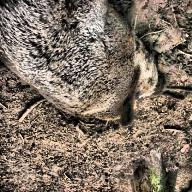boar: (0, 6, 177, 129)
